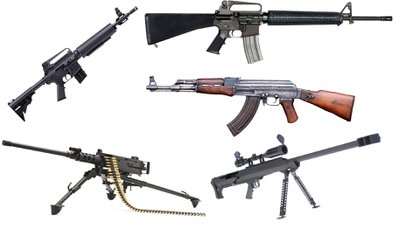Arma Real: (1, 135, 205, 220), (143, 1, 399, 65), (4, 4, 138, 121), (210, 134, 390, 215), (143, 74, 357, 136)
